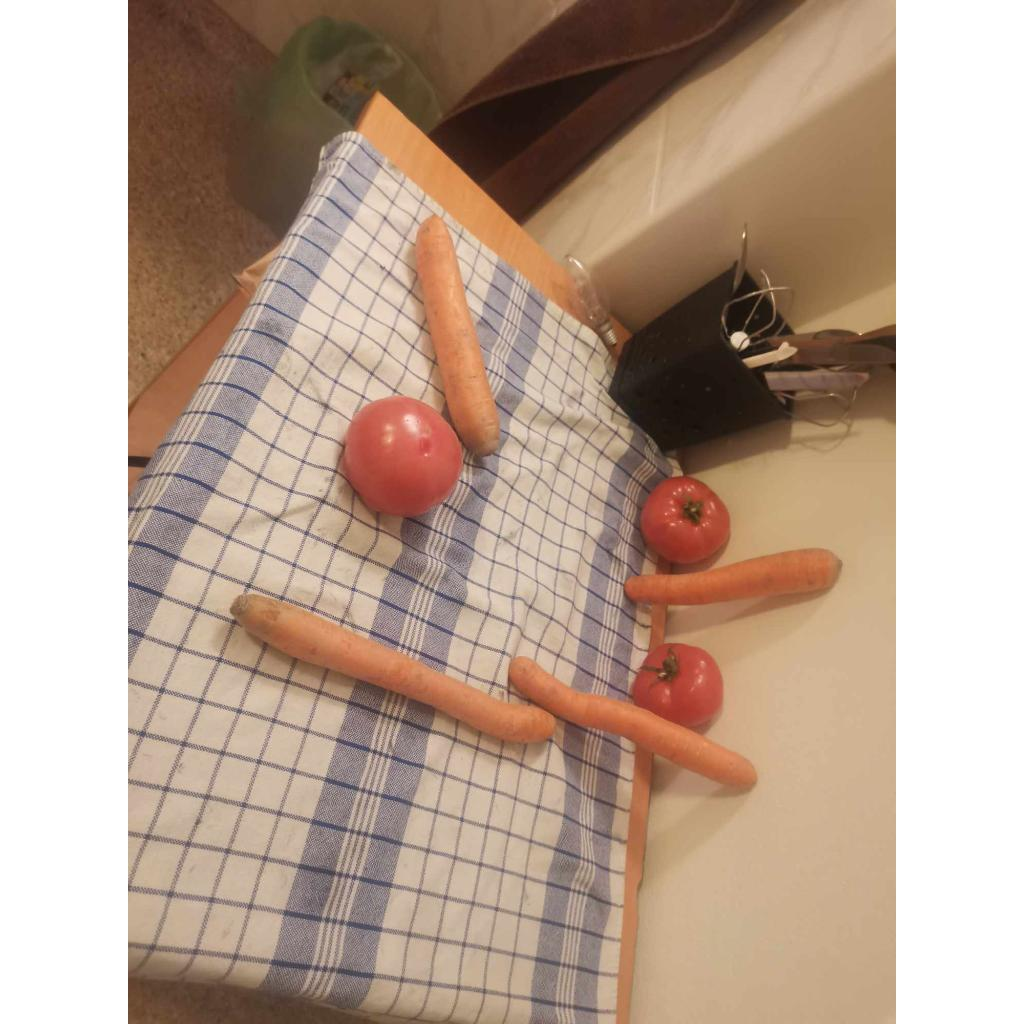carrot: (230, 594, 556, 742), (510, 656, 756, 788), (416, 216, 500, 456), (624, 548, 842, 606)
tomato: (640, 476, 730, 564), (632, 644, 722, 728)
